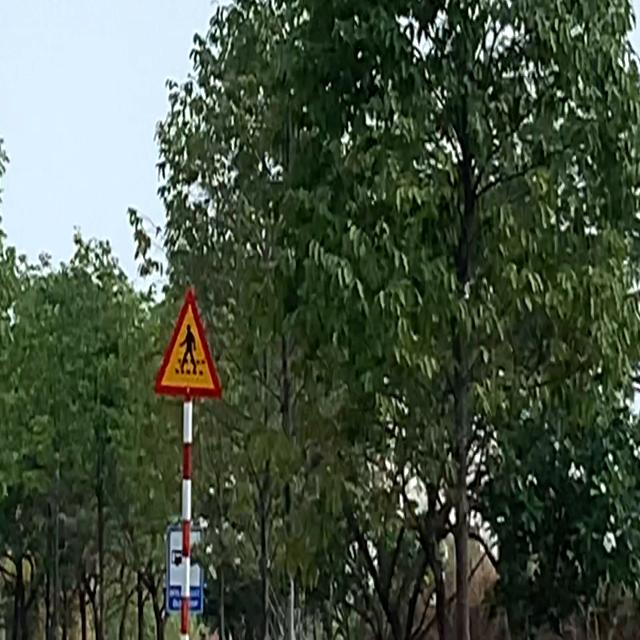W.224: (153, 288, 222, 400)
